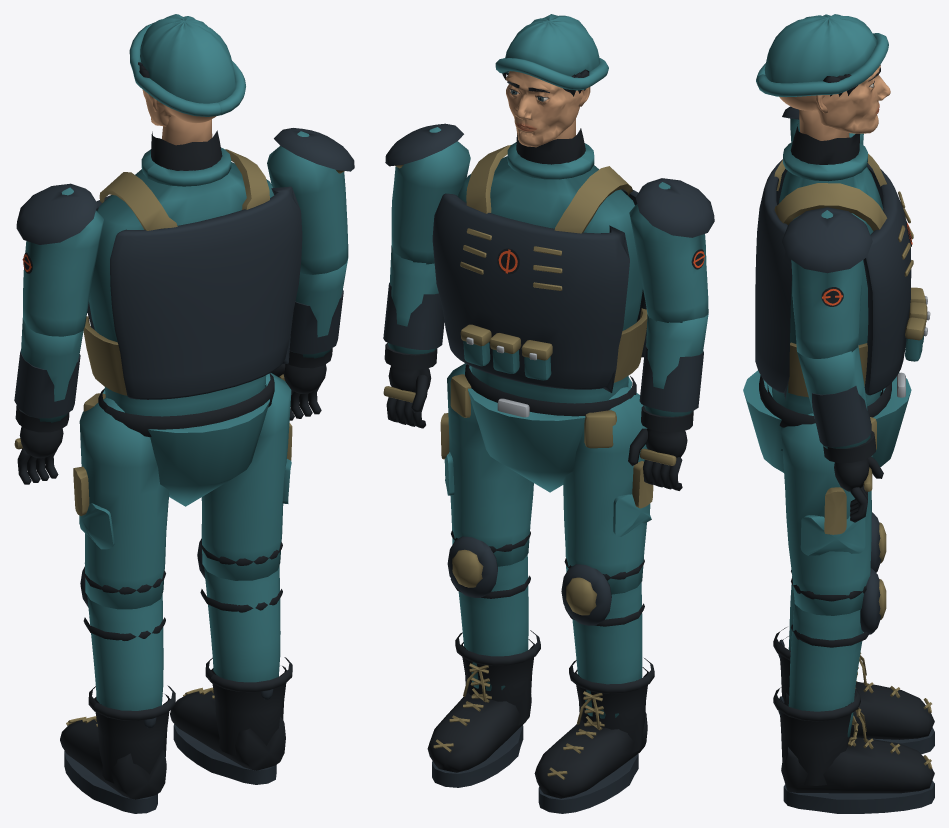
The model's file is kf-knife.glb.
3 renders of one model, left to right at view 1: azimuth 30°, elevation 25°; view 2: azimuth 150°, elevation 25°; view 3: azimuth 270°, elevation 25°, orthographic. The views are drawn at different scales.
Parts seen in each view (by area): view 1: Torso Ceramic armor, Torso Woven uniform, Leg_R Woven uniform, Knee_L Rubber and hair, Knee_R Rubber and hair, Leg_L Woven uniform, Head Woven uniform, Knee_L Woven uniform, Knee_R Woven uniform, Arm_R Woven uniform, Arm_L Woven uniform, Torso Webbing (+13 smaller); view 2: Torso Ceramic armor, Torso Woven uniform, Leg_R Woven uniform, Knee_R Rubber and hair, Knee_L Rubber and hair, Torso Webbing, Leg_L Woven uniform, Arm_R Woven uniform, Arm_L Woven uniform, Head Woven uniform, Knee_R Woven uniform, Knee_L Woven uniform (+17 smaller); view 3: Torso Ceramic armor, Knee_L Rubber and hair, Leg_L Woven uniform, Torso Woven uniform, Head Woven uniform, Knee_L Woven uniform, Torso Webbing, Arm_L Woven uniform, Knee_R Rubber and hair, Arm_L Ceramic armor, Head Skin, Elbow_L Ceramic armor (+11 smaller).
Part boxes in pixels (left/top/right/bottom): Torso Ceramic armor: left=87, top=186, right=302, bottom=399; Torso Woven uniform: left=89, top=147, right=274, bottom=506; Leg_R Woven uniform: left=79, top=398, right=169, bottom=609; Knee_L Rubber and hair: left=170, top=542, right=292, bottom=784; Knee_R Rubber and hair: left=60, top=571, right=175, bottom=813; Leg_L Woven uniform: left=201, top=373, right=291, bottom=580; Head Woven uniform: left=129, top=14, right=245, bottom=116; Knee_L Woven uniform: left=204, top=565, right=280, bottom=682; Knee_R Woven uniform: left=87, top=594, right=163, bottom=710; Arm_R Woven uniform: left=22, top=187, right=103, bottom=336; Arm_L Woven uniform: left=267, top=131, right=348, bottom=274; Torso Webbing: left=83, top=149, right=269, bottom=411; Torso Ceramic armor: left=432, top=189, right=646, bottom=392; Torso Woven uniform: left=457, top=142, right=642, bottom=492; Leg_R Woven uniform: left=563, top=387, right=651, bottom=594; Knee_R Rubber and hair: left=534, top=558, right=654, bottom=813; Knee_L Rubber and hair: left=427, top=530, right=540, bottom=787; Torso Webbing: left=450, top=145, right=647, bottom=448; Leg_L Woven uniform: left=444, top=363, right=533, bottom=566; Arm_R Woven uniform: left=629, top=182, right=708, bottom=322; Arm_L Woven uniform: left=391, top=127, right=470, bottom=264; Head Woven uniform: left=495, top=14, right=608, bottom=90; Knee_R Woven uniform: left=572, top=582, right=642, bottom=718; Knee_L Woven uniform: left=458, top=555, right=528, bottom=690; Torso Ceramic armor: left=755, top=159, right=911, bottom=400; Knee_L Rubber and hair: left=773, top=578, right=934, bottom=813; Leg_L Woven uniform: left=781, top=413, right=872, bottom=615; Torso Woven uniform: left=743, top=142, right=923, bottom=472; Head Woven uniform: left=756, top=14, right=888, bottom=97; Knee_L Woven uniform: left=788, top=602, right=863, bottom=737; Torso Webbing: left=774, top=153, right=927, bottom=449; Arm_L Woven uniform: left=791, top=210, right=863, bottom=358; Knee_R Rubber and hair: left=773, top=570, right=934, bottom=754; Arm_L Ceramic armor: left=782, top=207, right=872, bottom=273; Head Skin: left=779, top=65, right=890, bottom=133; Elbow_L Ceramic armor: left=812, top=386, right=871, bottom=447.
Bounding box in the file's own units: 0.838 × 1.88 × 0.4327.
